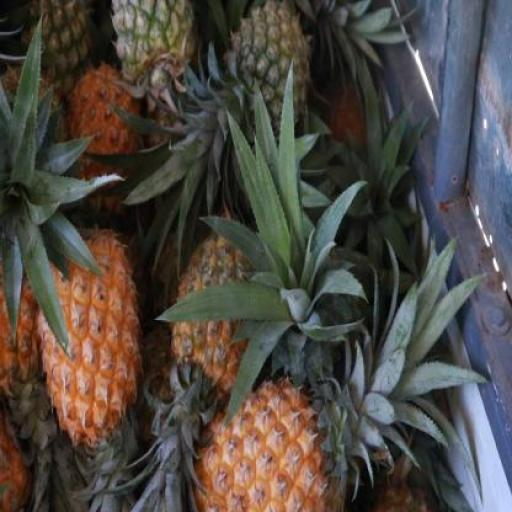Pineapple - v8 v1: (36, 218, 148, 445), (182, 368, 332, 511)
